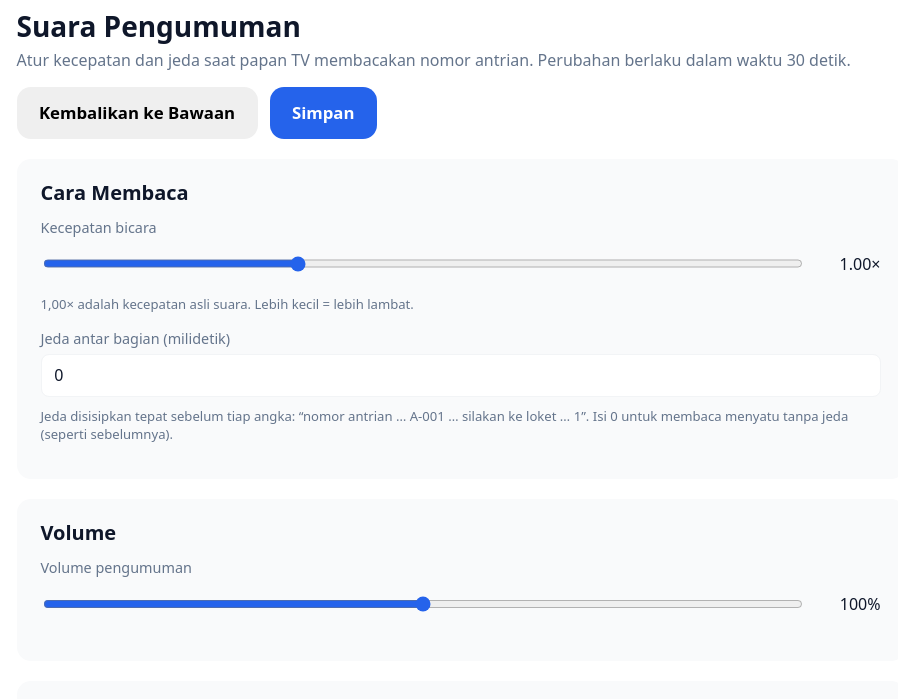
Scenario: TtsConfigPage › warns when the volume is set to zero (a silent board looks broken)
Set the slider with test id "tts-volume" to "0" at [50, 604], box [42,585,802,623]
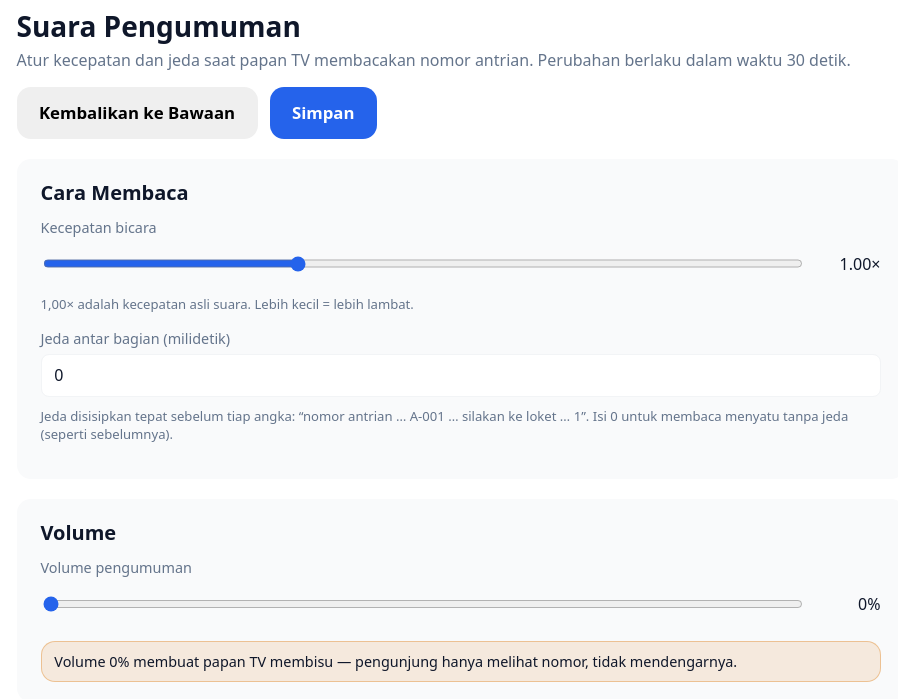
Expected: the text with test id "tts-muted-warning" is shown, [40,641,880,682]
